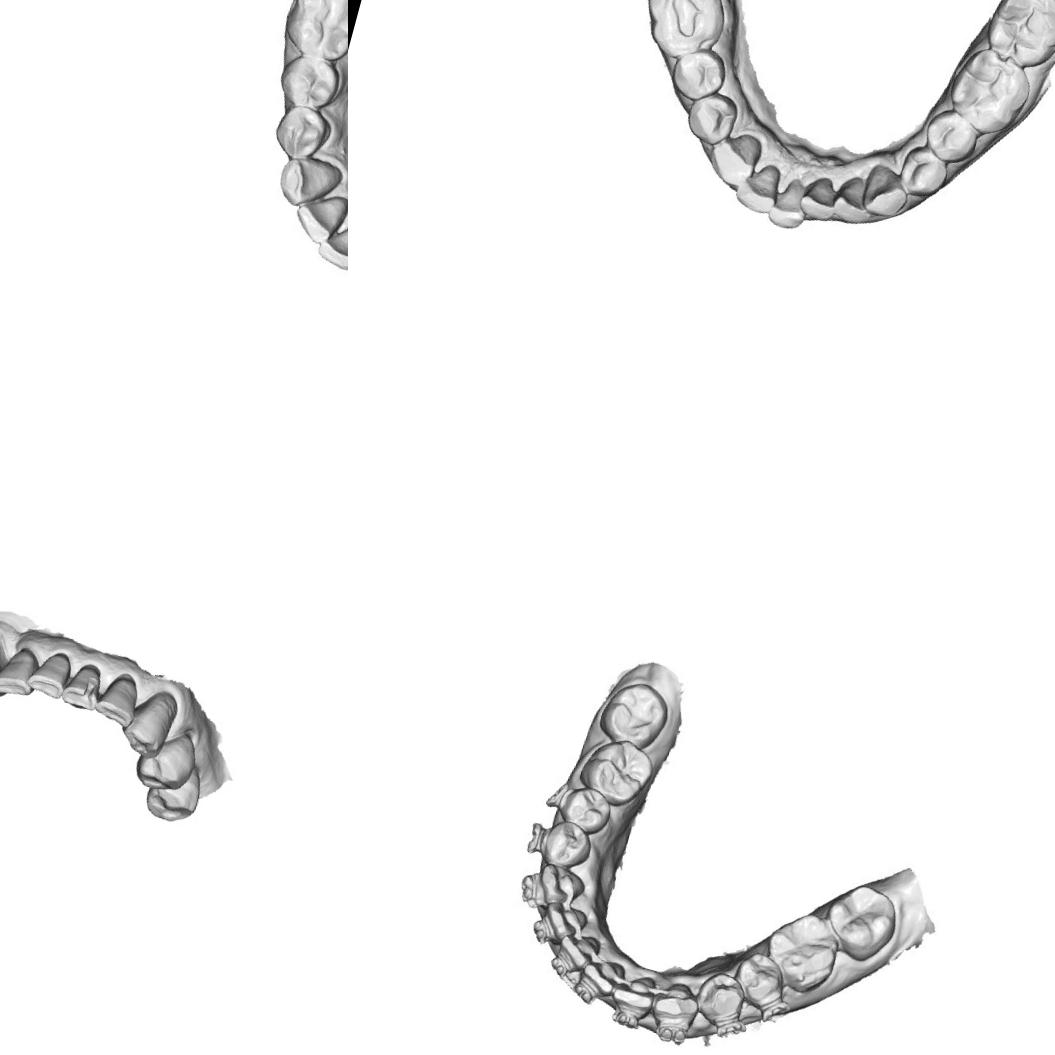canine: (116, 682, 182, 762), (702, 122, 770, 192), (272, 148, 340, 213), (855, 156, 916, 226), (536, 861, 587, 912), (650, 978, 698, 1028)
incisor: (289, 183, 348, 249), (90, 667, 144, 730), (762, 172, 814, 234), (730, 158, 782, 216), (24, 644, 75, 702), (0, 641, 45, 702), (58, 657, 106, 714), (798, 171, 845, 222), (832, 174, 877, 224), (540, 898, 588, 944), (612, 970, 655, 1016), (318, 212, 348, 275), (582, 956, 625, 997), (556, 935, 602, 970)
molar: (946, 42, 1032, 136), (762, 908, 842, 990), (638, 0, 735, 63), (826, 880, 900, 958), (600, 678, 670, 753), (583, 731, 656, 800), (985, 0, 1055, 69), (283, 0, 348, 63)
premolar: (130, 723, 202, 798), (268, 103, 339, 169), (141, 756, 207, 827), (281, 50, 342, 112), (668, 44, 728, 102), (922, 109, 984, 164), (733, 950, 786, 1004), (685, 90, 736, 144), (544, 821, 599, 871), (898, 146, 951, 197), (698, 972, 752, 1022), (560, 788, 611, 832)
